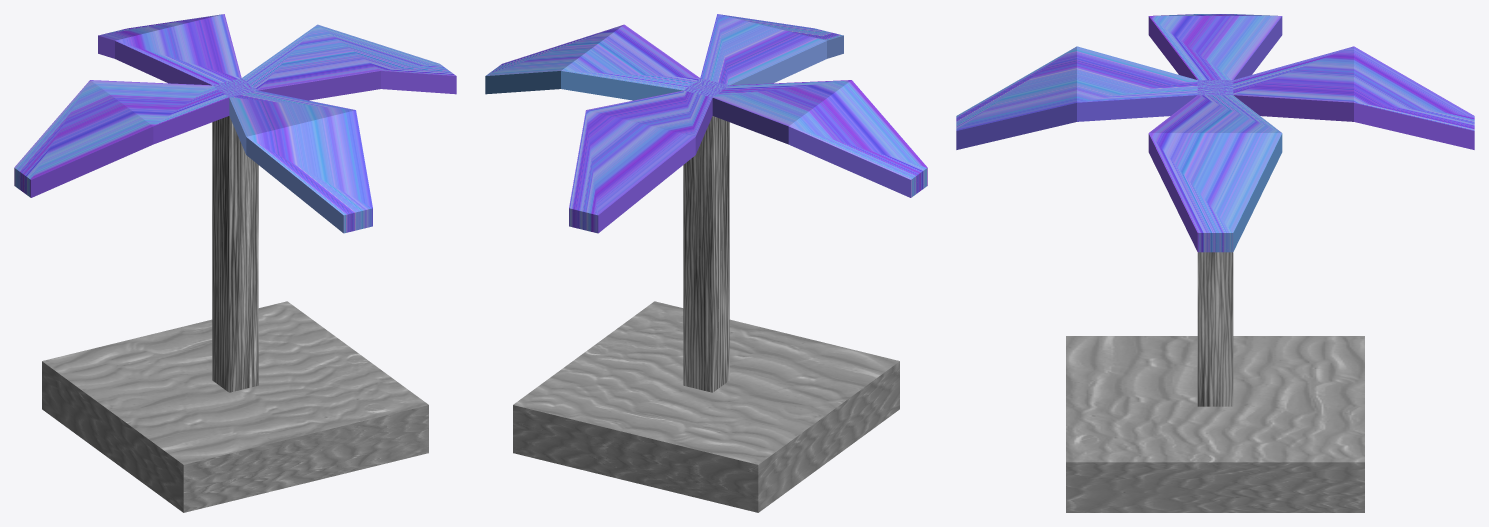
File: tree.obj
3 renders of one model, left to right at view 1: azimuth 30°, elevation 25°; view 2: azimuth 150°, elevation 25°; view 3: azimuth 270°, elevation 25°, orthographic. The views are drawn at different scales.
Parts seen in each view (by area): view 1: Cube; view 2: Cube; view 3: Cube.
Boxes of the visible parts, x1=… form: Cube: x1=14, y1=14, x2=456, y2=512; Cube: x1=485, y1=14, x2=927, y2=512; Cube: x1=956, y1=14, x2=1474, y2=512.
Size of the model in its own units: 3.47 by 2.88 by 3.47.
